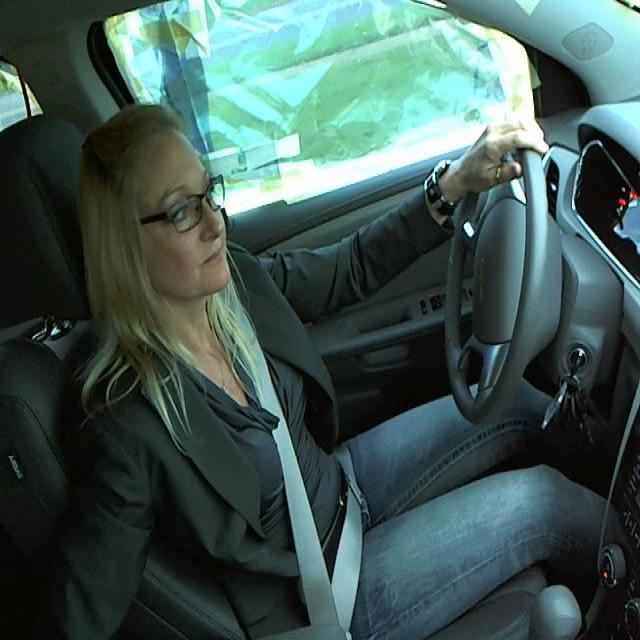seatbelt: (233, 313, 374, 628)
